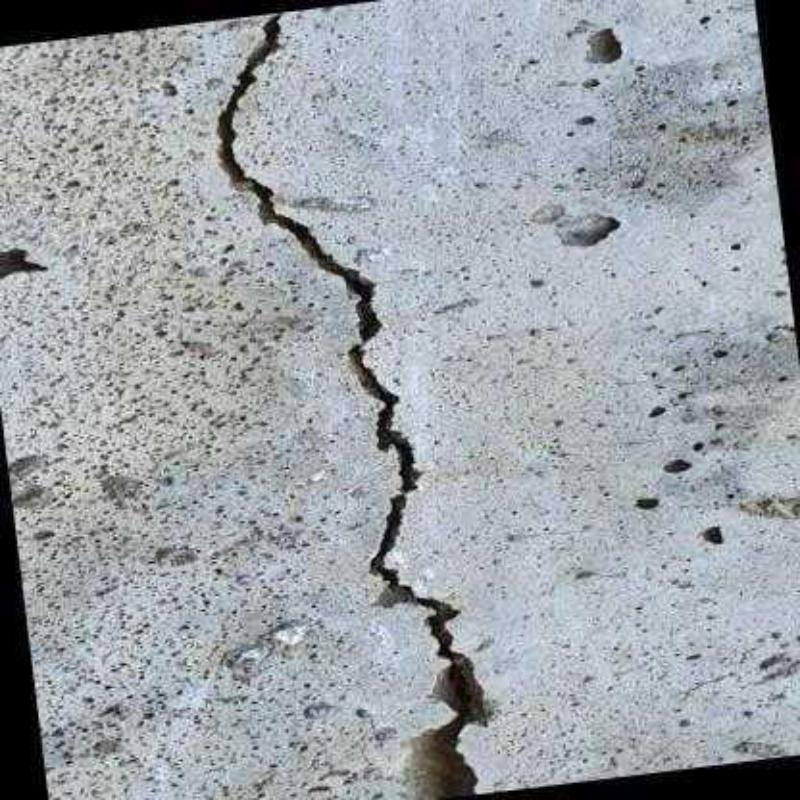pothole: (210, 10, 497, 800)
